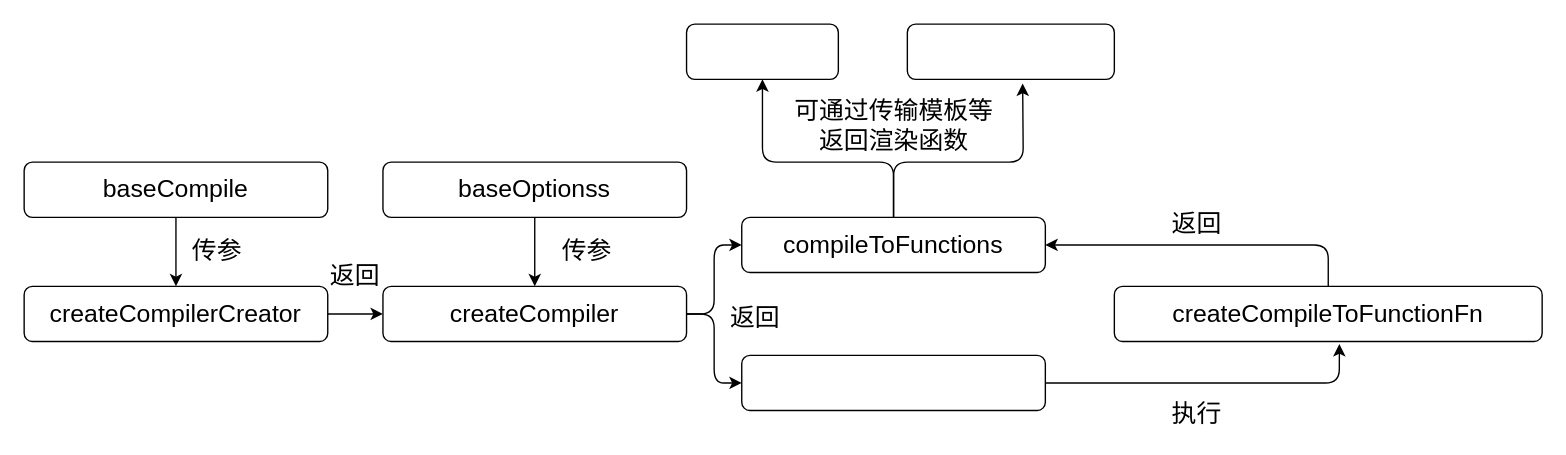
Image size: 1566x455. Some labels were removed from this diagram. Here are the shapes that lost their labels. From the top down, the centre of each, then its label:
point 761,51: render
point 1010,51: staticRender
point 892,382: compile
